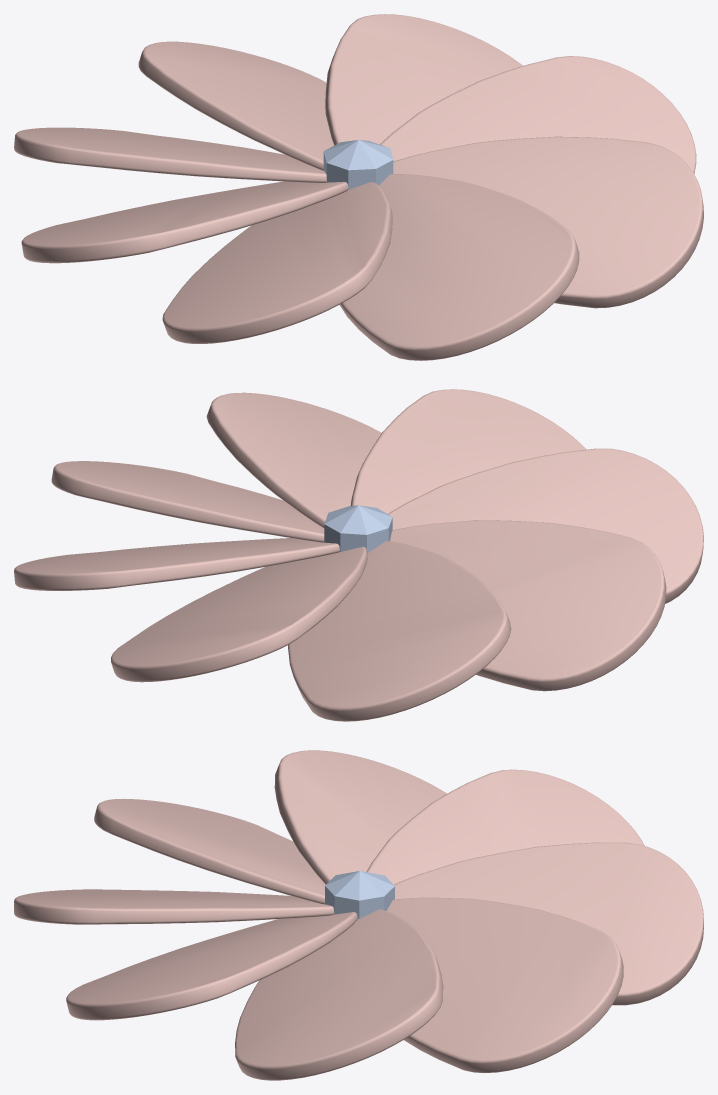
The model's file is fananimation.glb.
The picture shows the model from 3 angles, top to bottom: view 1: azimuth 30°, elevation 25°; view 2: azimuth 150°, elevation 25°; view 3: azimuth 270°, elevation 25°; orthographic projection. The views are drawn at different scales.
Visible parts, largest first — view 1: Cylinder.002; view 2: Cylinder.002; view 3: Cylinder.002.
Boxes of the visible parts, bbox=[...] form: Cylinder.002: bbox=[14, 14, 703, 360]; Cylinder.002: bbox=[14, 389, 703, 721]; Cylinder.002: bbox=[14, 750, 703, 1080].
Bounding box in the file's own units: 3.94 × 0.5343 × 3.94.
